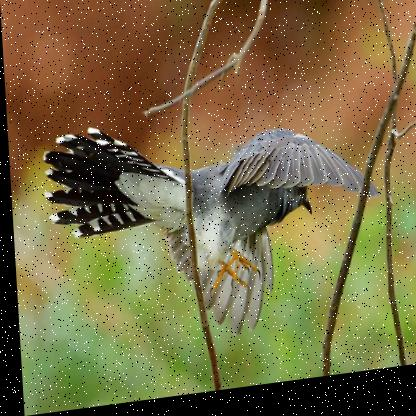Burung: (38, 101, 382, 362)
